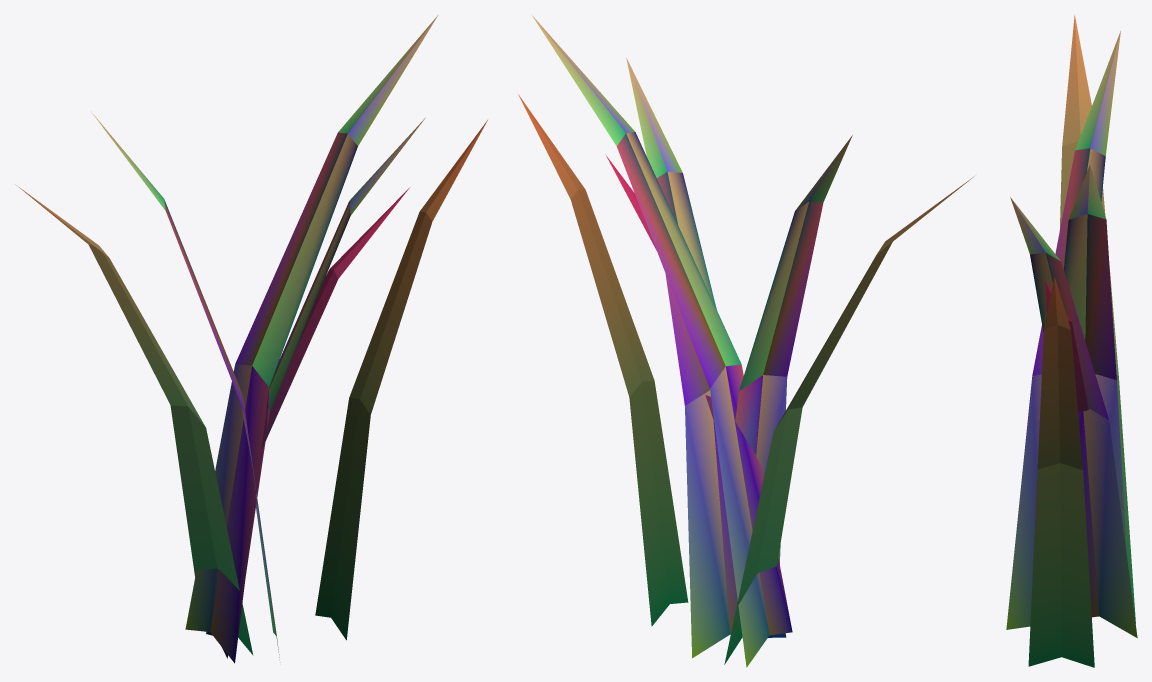
File: SM_WF_GrassSedge.fbx
3 views of the same model, side by side, from view 1: azimuth 30°, elevation 25°; view 2: azimuth 150°, elevation 25°; view 3: azimuth 270°, elevation 25° (orthographic). The views are drawn at different scales.
Visible parts, largest first — view 1: SM_WF_GrassSedge; view 2: SM_WF_GrassSedge; view 3: SM_WF_GrassSedge.
Boxes of the visible parts, <box> form: SM_WF_GrassSedge: <box>15,15,487,663</box>; SM_WF_GrassSedge: <box>518,14,973,667</box>; SM_WF_GrassSedge: <box>1006,15,1137,667</box>.
Bounding box in the file's own units: 32.5 × 8.12 × 38.35.
